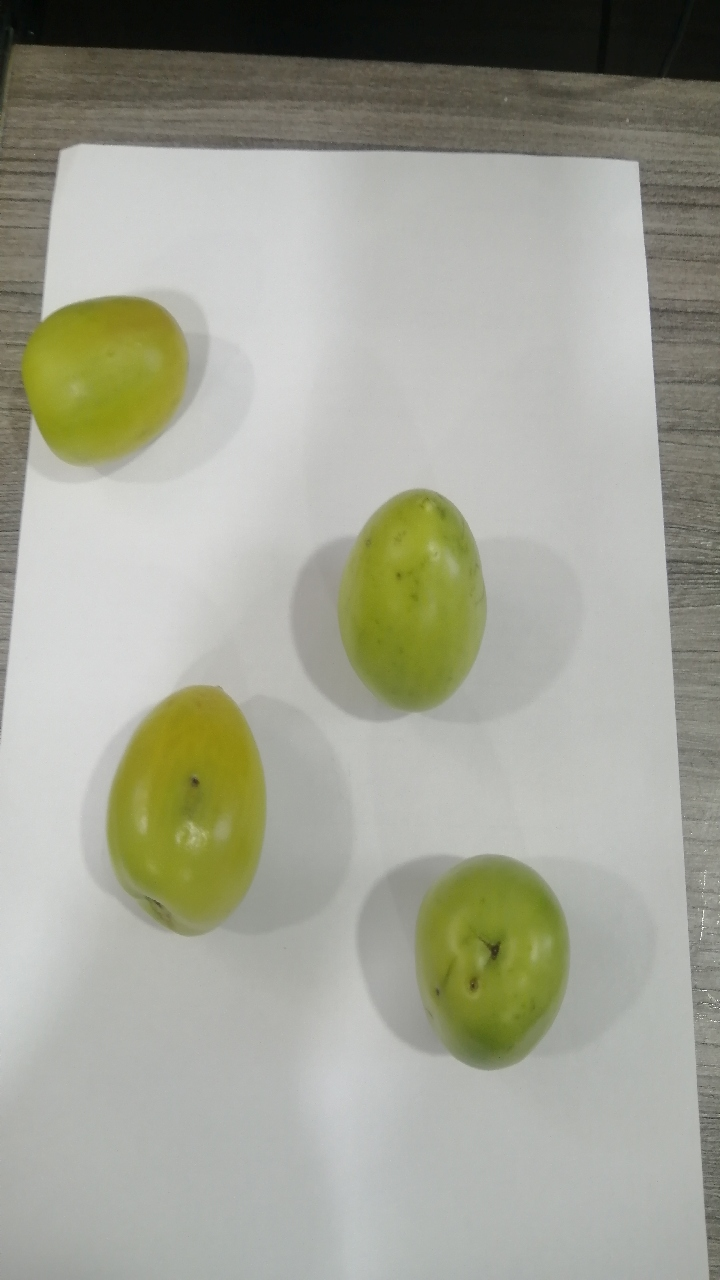tomateVerde: (71, 666, 300, 951), (321, 480, 523, 726), (395, 837, 592, 1089), (11, 274, 218, 491)
